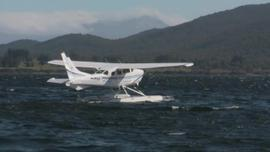aircraft: (47, 52, 195, 104)
